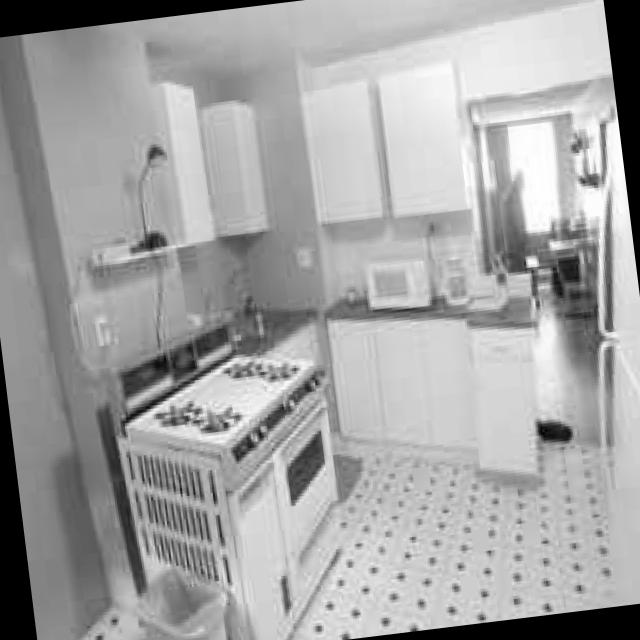2001: (488, 120, 568, 226)
2036: (324, 287, 529, 326)
ceiling beam: (144, 0, 599, 69)
cupboard crop: (327, 318, 467, 447), (300, 77, 389, 221), (380, 68, 465, 215), (464, 318, 537, 478), (149, 82, 217, 242), (233, 298, 324, 367)
floor -X: (81, 387, 608, 640), (490, 259, 600, 442)
fridge crop: (594, 130, 640, 604)
heater: (197, 97, 268, 234)
lamp crop: (137, 144, 164, 229), (138, 229, 155, 251)
shelf crop: (81, 238, 167, 267)
stove burner: (102, 310, 344, 640)
table runner: (546, 226, 591, 286)
television cabinet: (494, 173, 529, 250)
trash trolley: (137, 564, 228, 640)
wall clock: (0, 20, 280, 640), (296, 1, 608, 420), (225, 59, 335, 428), (467, 80, 609, 269)
